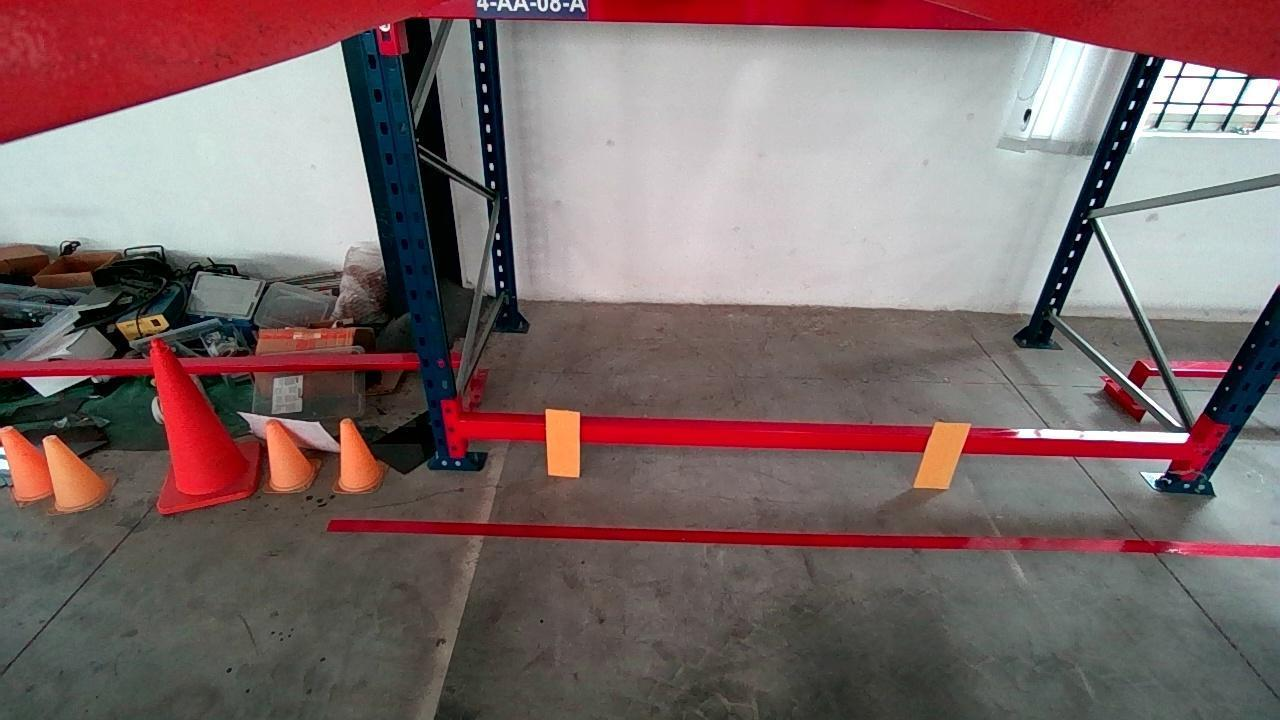h_rack: (457, 411, 1192, 458), (423, 0, 1004, 23)
orange_strip: (914, 424, 968, 486), (544, 408, 580, 477)
red_line: (327, 516, 1280, 557)
